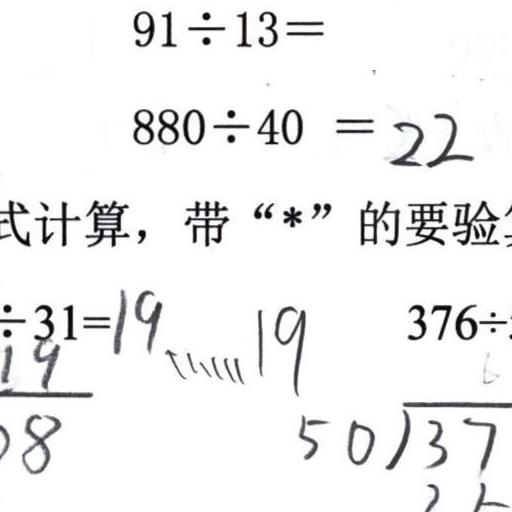ans: (109, 283, 310, 395), (383, 105, 473, 169)
